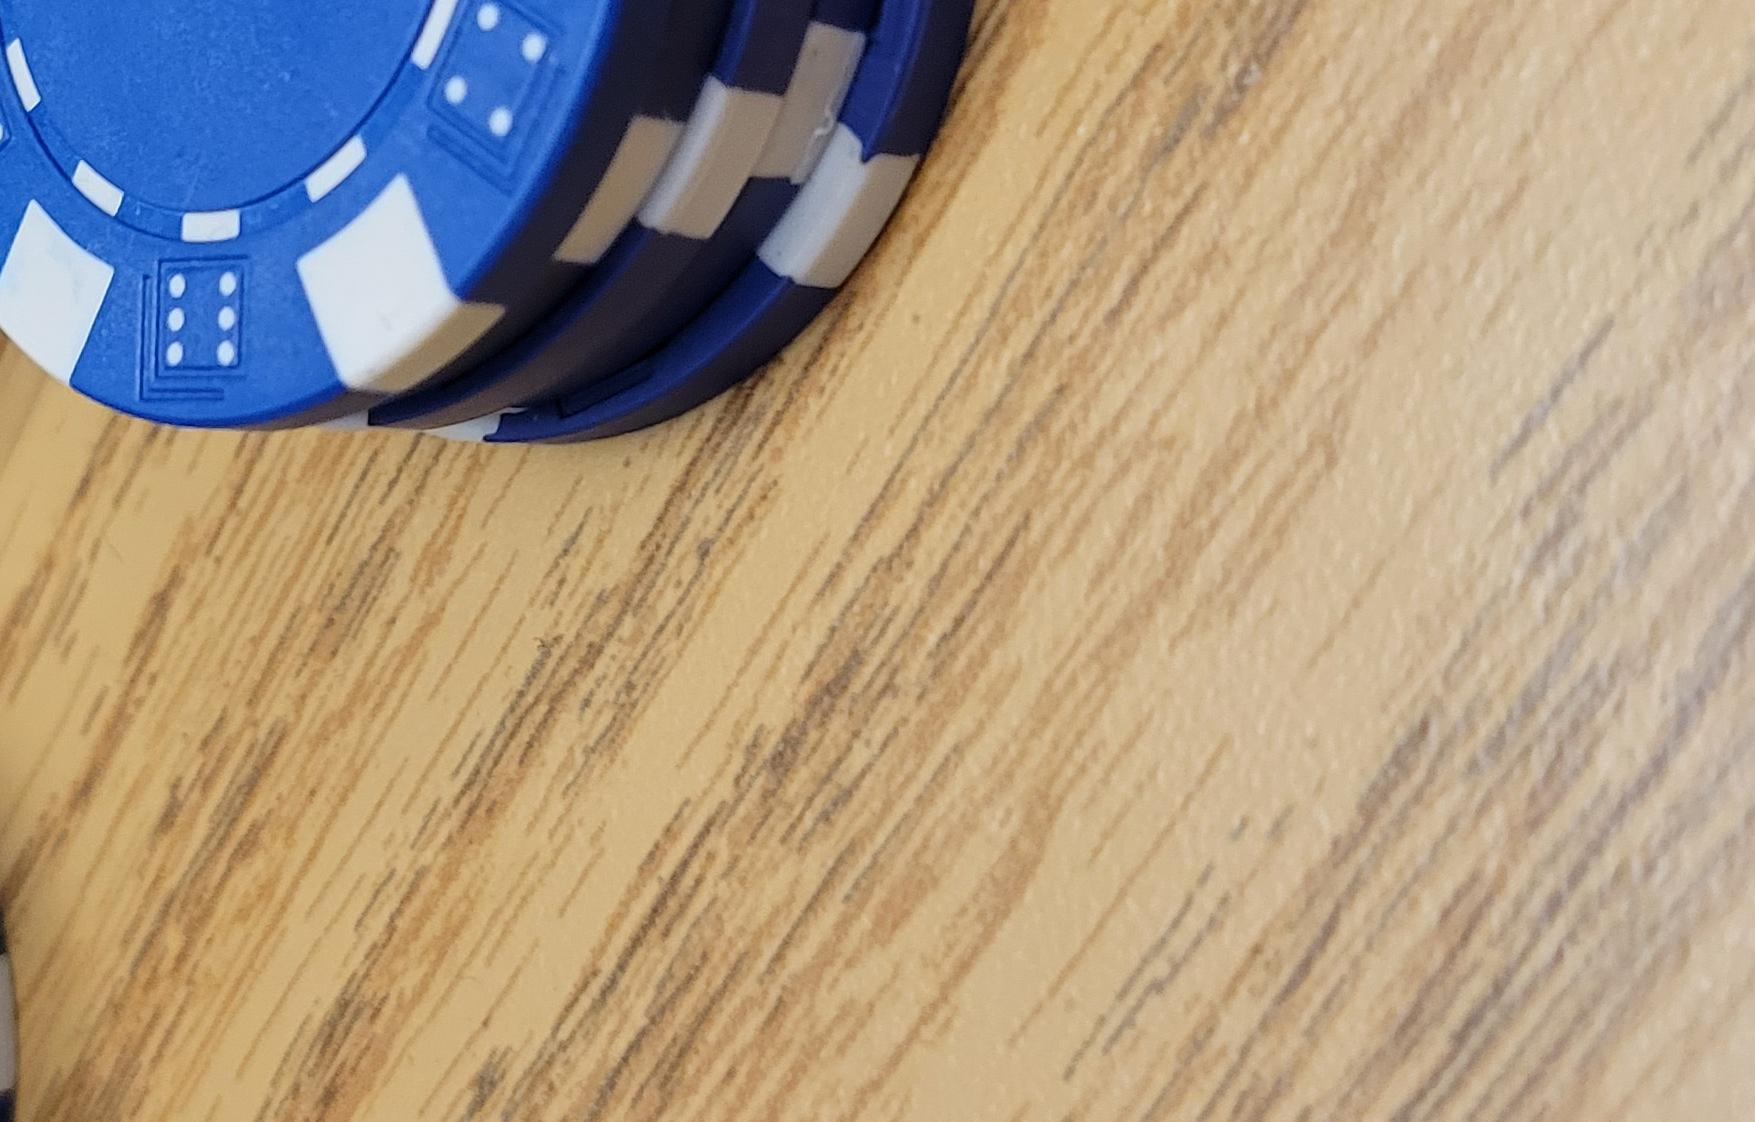Chip: (1, 375, 862, 1122)
